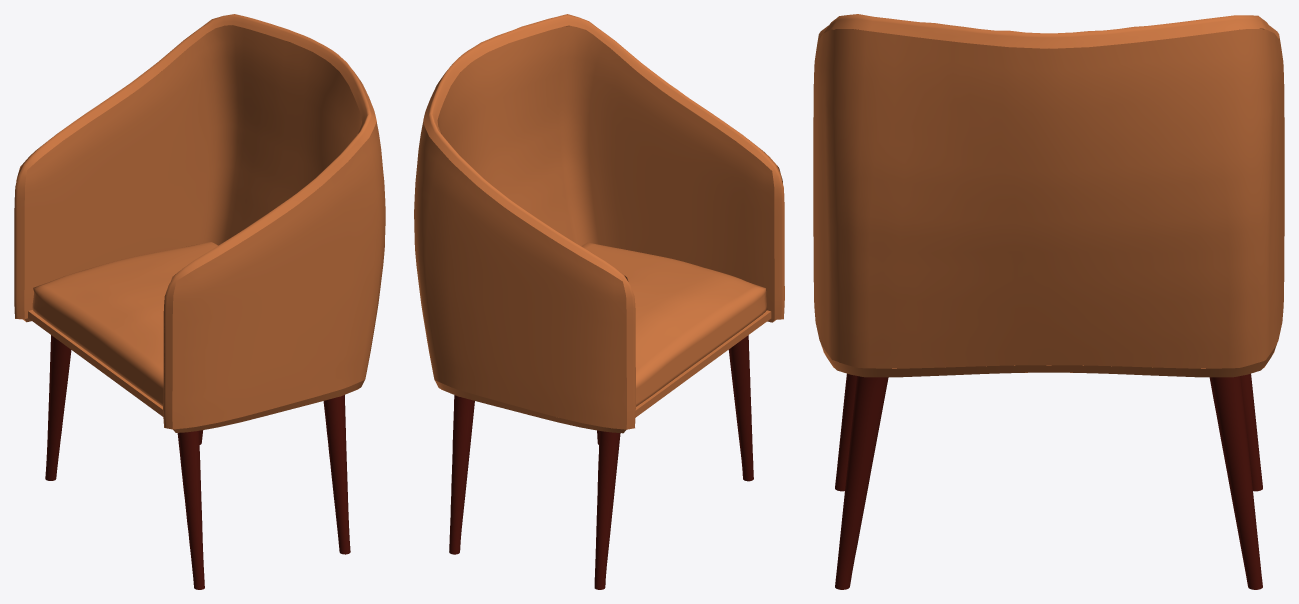
Rendered from Chair.fbx.
3 renders of one model, left to right at view 1: azimuth 30°, elevation 25°; view 2: azimuth 150°, elevation 25°; view 3: azimuth 270°, elevation 25°, orthographic. The views are drawn at different scales.
Parts seen in each view (by area): view 1: Retopo_Cube.031; view 2: Retopo_Cube.031; view 3: Retopo_Cube.031.
Part boxes in pixels (<box>): Retopo_Cube.031: <box>14,14,385,589</box>; Retopo_Cube.031: <box>414,14,784,589</box>; Retopo_Cube.031: <box>813,14,1284,589</box>.
Bounding box in the file's own units: 9.01 × 14.69 × 10.49.
